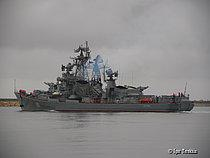MIL_Ship: (14, 41, 196, 112)
